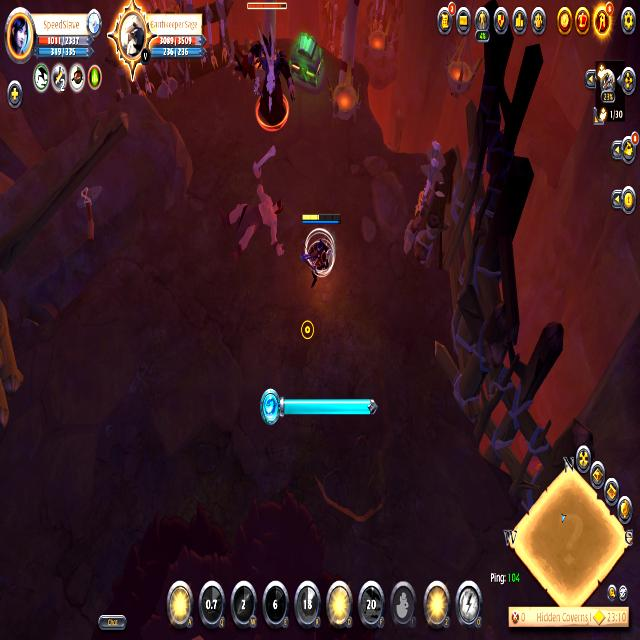ore: (235, 0, 296, 136)
red: (302, 210, 340, 294)
